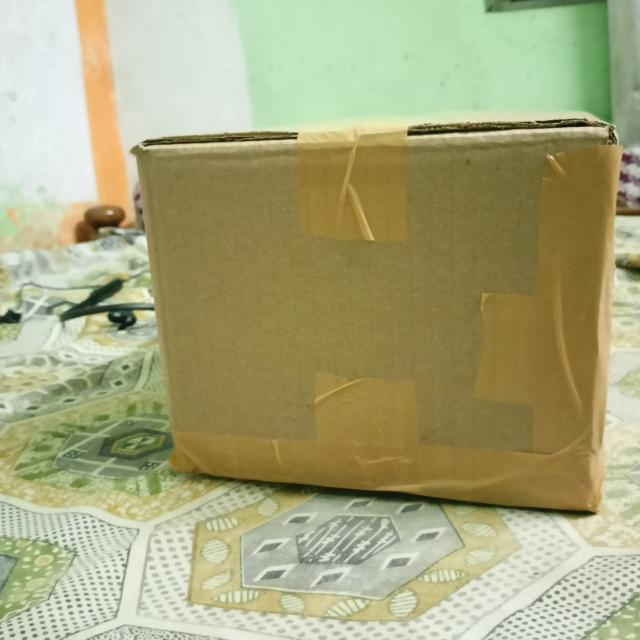box: (140, 131, 611, 516)
